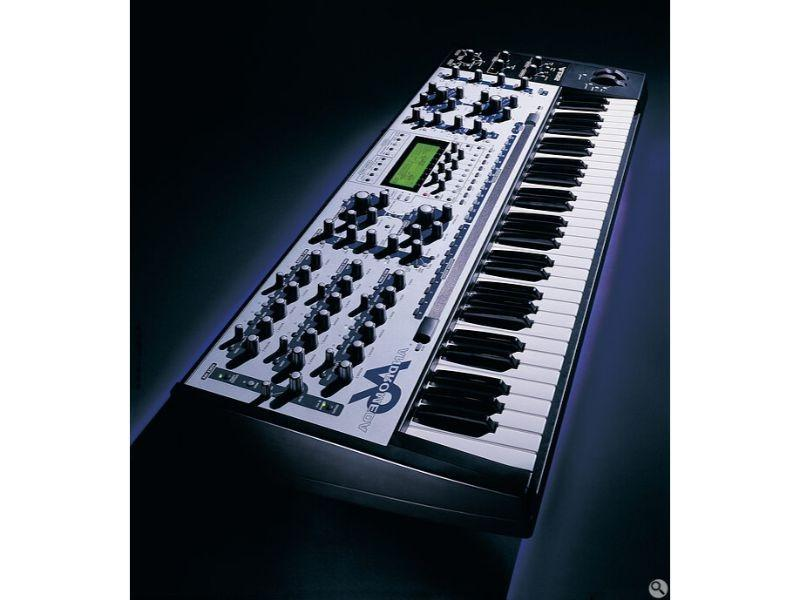synthesizer: (162, 35, 649, 528)
